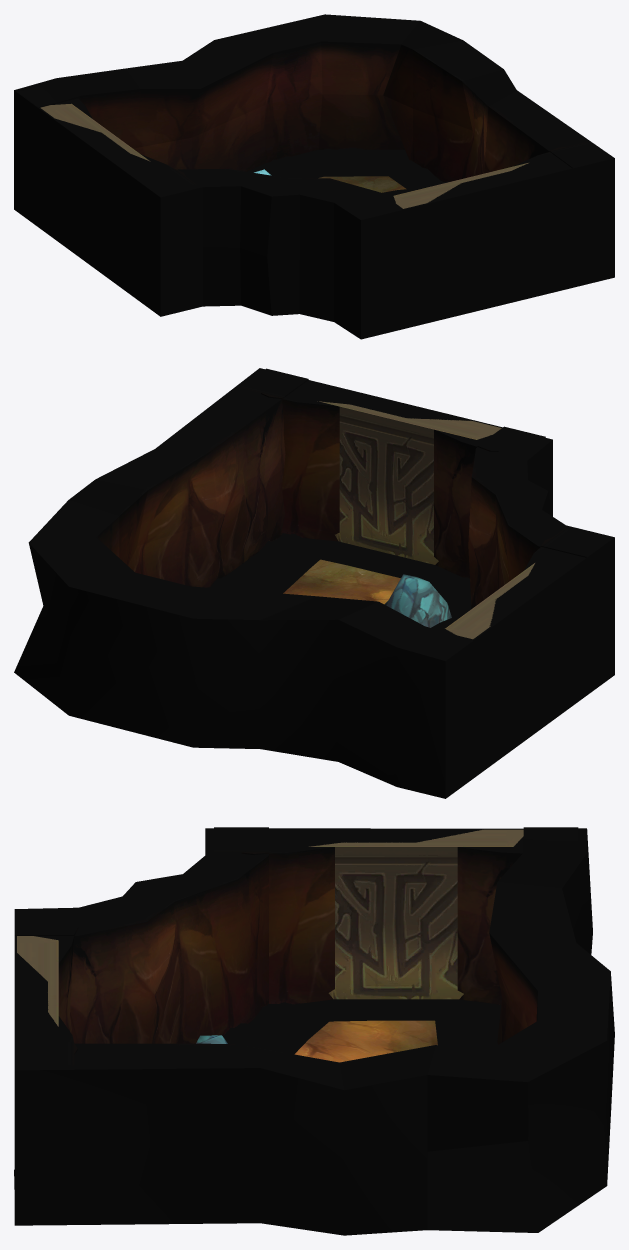
Rendered from Dungeon_011_RoadL_003.fbx.
3 renders of one model, top to bottom at view 1: azimuth 30°, elevation 25°; view 2: azimuth 150°, elevation 25°; view 3: azimuth 270°, elevation 25°, orthographic. The views are drawn at different scales.
Visible parts, largest first — view 1: Dan1, Dun_011_Door_002_old (×2), Dun_011_Door_002 (×2), Dan1_shadow, Dun_011_Door_003_WarpRoom (×2), Dan2; view 2: Dan1, Dun_011_Door_002_old (×2), Dun_011_Door_003_WarpRoom (×2), Dun_011_Door_002 (×2), Dan1_shadow, Dun_011_Door_002_shadow, Dan2, Dungeon_011_Object_012; view 3: Dan1, Dun_011_Door_002_old (×2), Dun_011_Door_003_WarpRoom (×2), Dan1_shadow, Dun_011_Door_002_shadow, Dan2, Dun_011_Door_002 (×2).
Boxes of the visible parts, x1,y1,x2,y2 form: Dan1: (14, 14, 614, 339); Dun_011_Door_002_old (×2): (17, 86, 608, 327); Dun_011_Door_002 (×2): (38, 93, 607, 328); Dan1_shadow: (247, 148, 553, 296); Dun_011_Door_003_WarpRoom (×2): (40, 103, 528, 208); Dan2: (318, 176, 406, 192); Dan1: (14, 368, 614, 798); Dun_011_Door_002_old (×2): (240, 368, 610, 776); Dun_011_Door_003_WarpRoom (×2): (317, 401, 534, 639); Dun_011_Door_002 (×2): (240, 369, 608, 777); Dan1_shadow: (209, 533, 471, 617); Dun_011_Door_002_shadow: (282, 533, 470, 587); Dan2: (283, 559, 400, 604); Dungeon_011_Object_012: (384, 574, 451, 627); Dan1: (14, 828, 614, 1235); Dun_011_Door_002_old (×2): (14, 827, 578, 1065); Dun_011_Door_003_WarpRoom (×2): (17, 829, 523, 1026); Dan1_shadow: (14, 1003, 499, 1189); Dun_011_Door_002_shadow: (269, 999, 501, 1022); Dan2: (294, 1020, 437, 1062); Dun_011_Door_002 (×2): (14, 827, 551, 1065).
Size of what is drawn, in the model's own units: 7.21 by 2.08 by 7.09.
